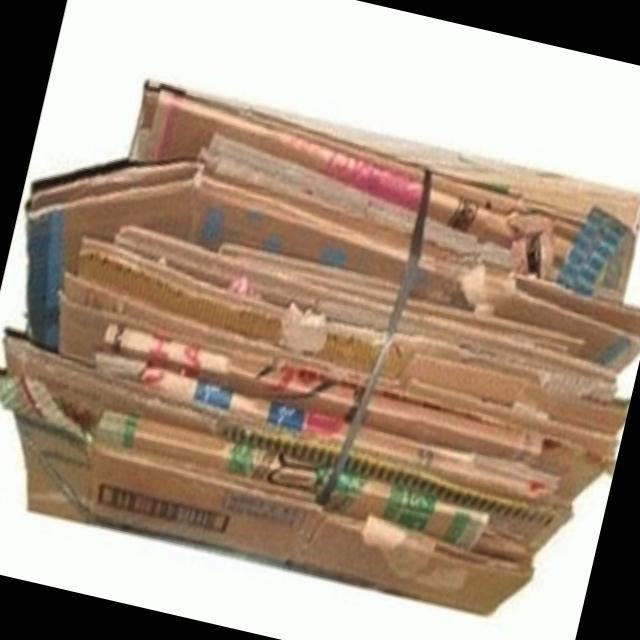Kardus: (0, 58, 640, 640)
